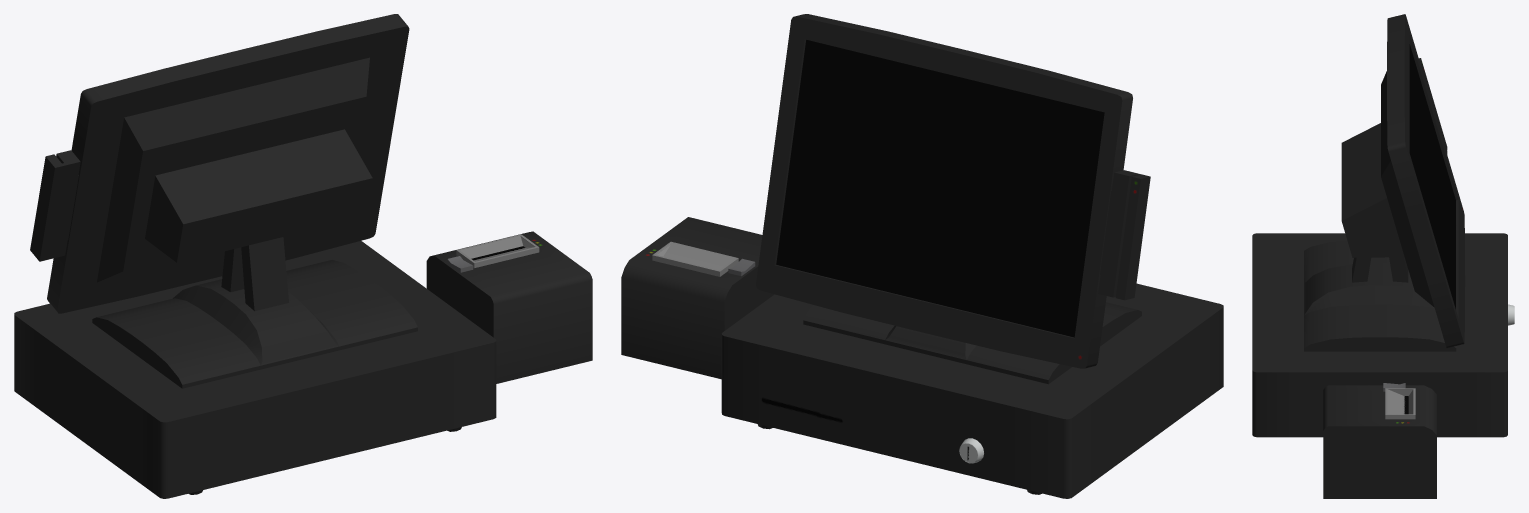
Rendered from cashregister_01.FBX.
The picture shows the model from 3 angles, left to right: view 1: azimuth 30°, elevation 25°; view 2: azimuth 150°, elevation 25°; view 3: azimuth 270°, elevation 25°; orthographic projection. The views are drawn at different scales.
Visible parts, largest first — view 1: Monitor, CashDrawer, MonitorStand, TicketPrinter, MonitorNeck; view 2: Monitor, CashDrawer, TicketPrinter, MonitorStand; view 3: CashDrawer, Monitor, TicketPrinter, MonitorStand, MonitorNeck.
Part boxes in pixels (bbox=[...]): Monitor: bbox=[30, 14, 409, 313]; CashDrawer: bbox=[14, 241, 496, 498]; MonitorStand: bbox=[92, 260, 417, 388]; TicketPrinter: bbox=[426, 231, 592, 383]; MonitorNeck: bbox=[221, 237, 288, 311]; Monitor: bbox=[756, 14, 1150, 368]; CashDrawer: bbox=[721, 283, 1223, 498]; TicketPrinter: bbox=[621, 217, 774, 379]; MonitorStand: bbox=[803, 302, 1141, 384]; CashDrawer: bbox=[1252, 233, 1514, 437]; Monitor: bbox=[1341, 14, 1465, 347]; TicketPrinter: bbox=[1323, 383, 1436, 498]; MonitorStand: bbox=[1304, 240, 1456, 351]; MonitorNeck: bbox=[1352, 257, 1408, 282].
Bounding box in the file's own units: 78.68 × 53.73 × 43.08.
